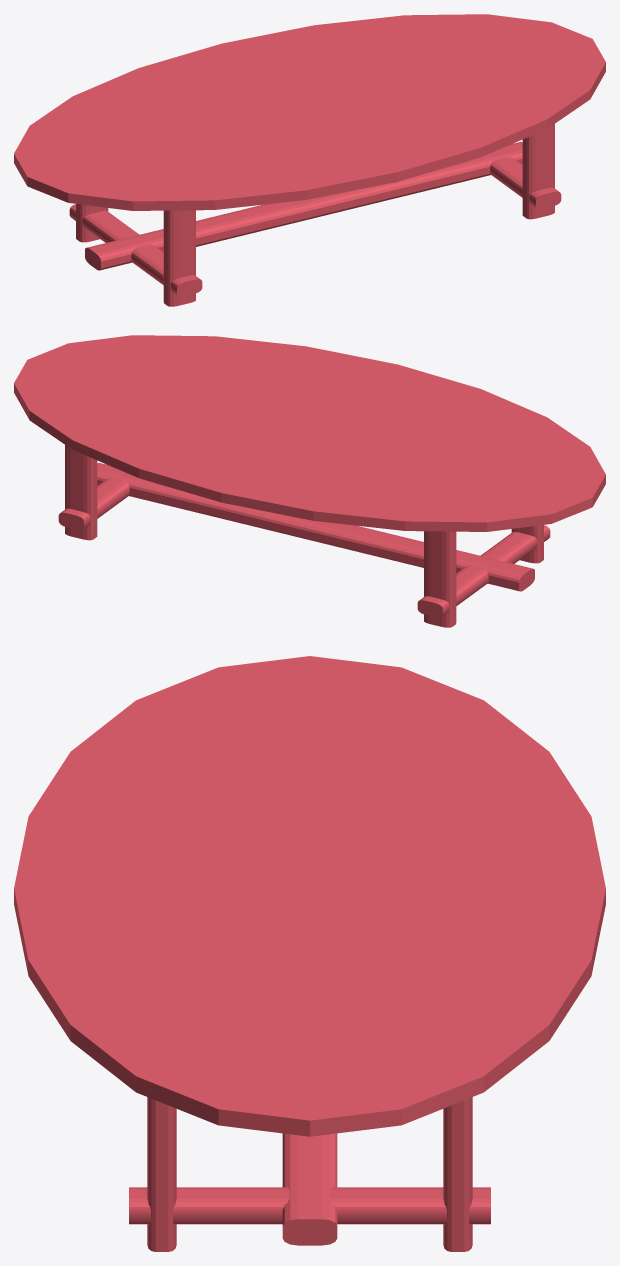
Rendered from Table.fbx.
The picture shows the model from 3 angles, top to bottom: view 1: azimuth 30°, elevation 25°; view 2: azimuth 150°, elevation 25°; view 3: azimuth 270°, elevation 25°; orthographic projection. The views are drawn at different scales.
Visible parts, largest first — view 1: Table; view 2: Table; view 3: Table.
Part boxes in pixels (box(x1,y1,x2,y2)): Table: box(14, 14, 605, 306); Table: box(14, 335, 605, 627); Table: box(14, 656, 605, 1251).
Size of the model in its own units: 520 by 104 by 280.
